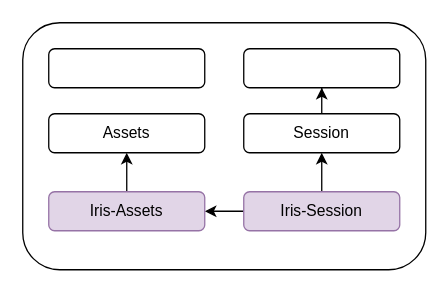
The diagram is 448 pixels wide and 293 high, and some of its shapes have lost their labels. Here are the shapes that lost their labels. From the top down, the centre of each, then its label:
At [126,67]: "Grandpa".
At [321,67]: "Aura".
